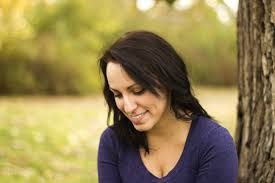no-mask: (93, 34, 190, 132)
